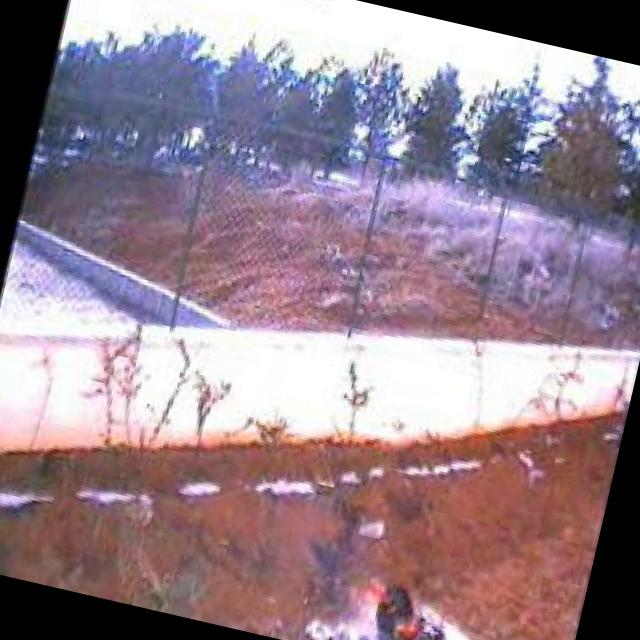Fire: (335, 564, 453, 640)
